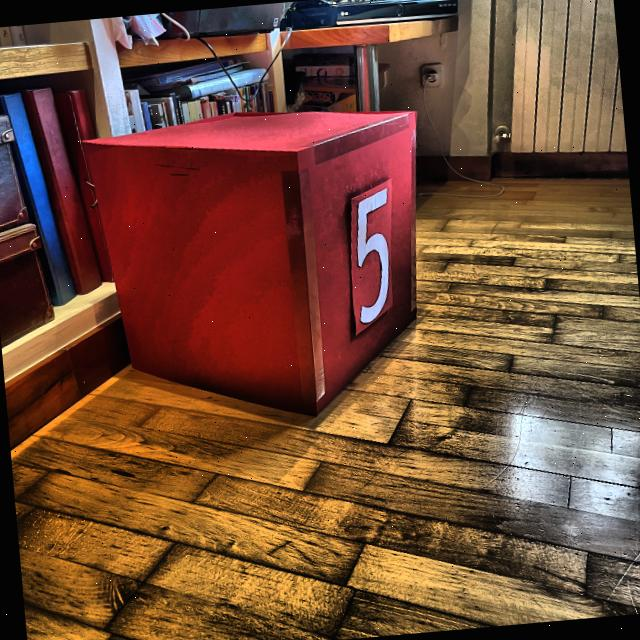five: (343, 188, 399, 328)
red box: (88, 100, 438, 435)
